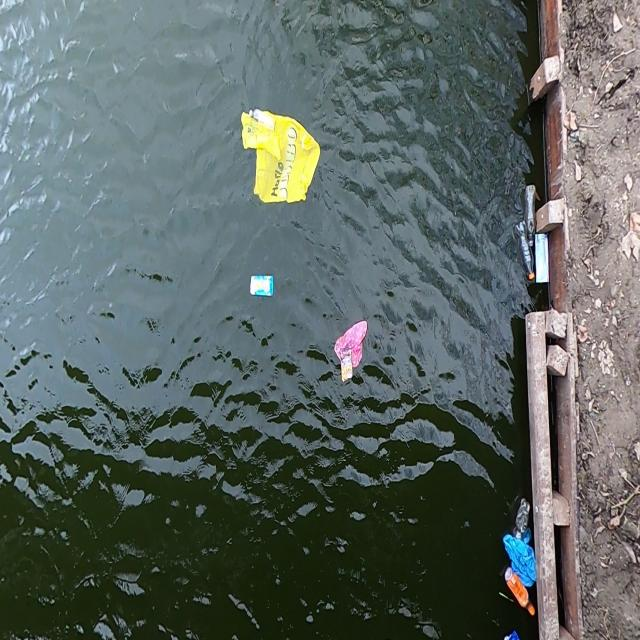Bouteille plastique: (499, 563, 538, 622)
Sac plastique: (235, 102, 324, 209), (500, 525, 537, 587)
